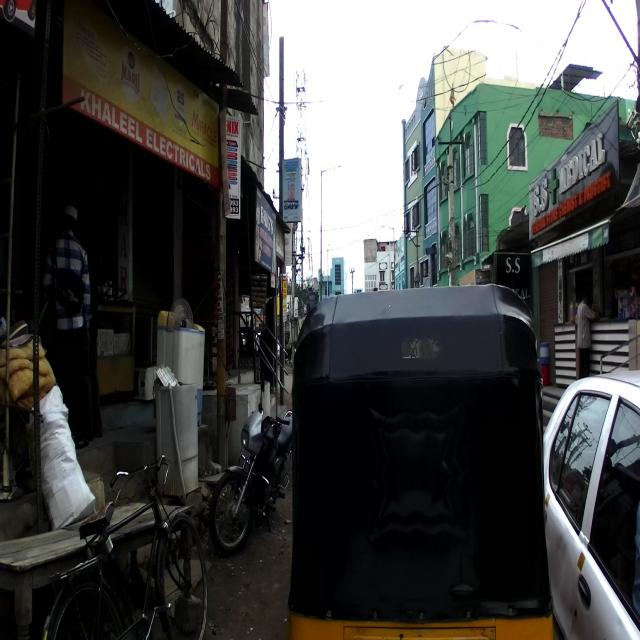autorickshaw: (288, 284, 554, 638)
car: (542, 367, 640, 639)
motorcycle: (209, 372, 292, 557)
